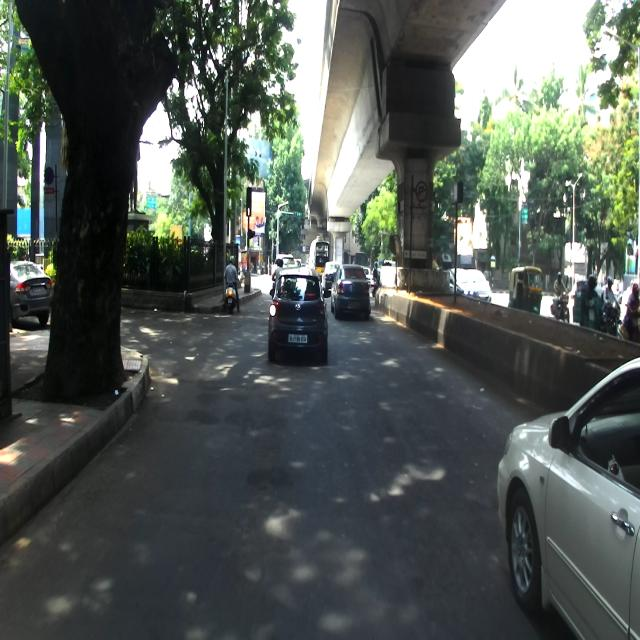car ahead at: (500, 354, 640, 640), (268, 272, 327, 358), (334, 265, 374, 322)
tree ahead at: (24, 0, 174, 424)
